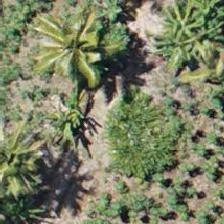coconut_tree: (26, 7, 116, 97), (142, 4, 223, 94), (0, 121, 59, 211)
